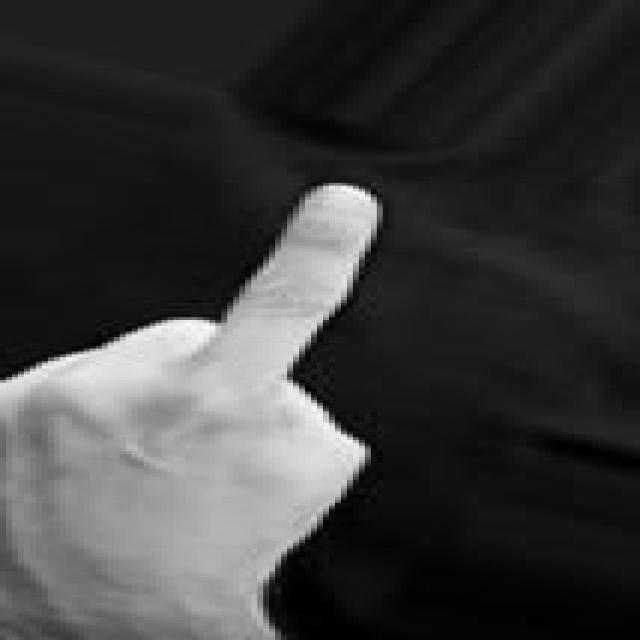I: (6, 180, 389, 640)
